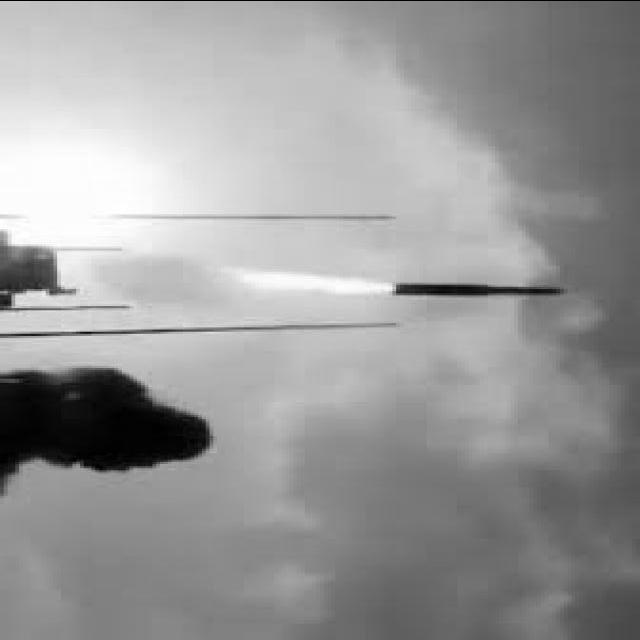Missile: (390, 280, 573, 301)
